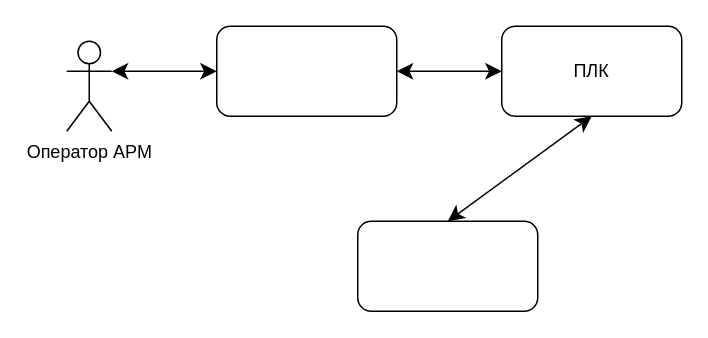
Image size: 708x338. Some labels were removed from this diagram. Here are the shapes that lost their labels. From the top down, the box of each, then its label:
(215, 25, 397, 116): АСУ ТЭЦ
(356, 220, 538, 311): Оборудование
